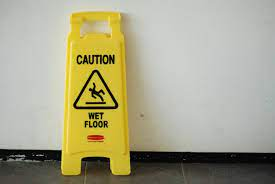wet caution sign: (61, 5, 134, 178)
